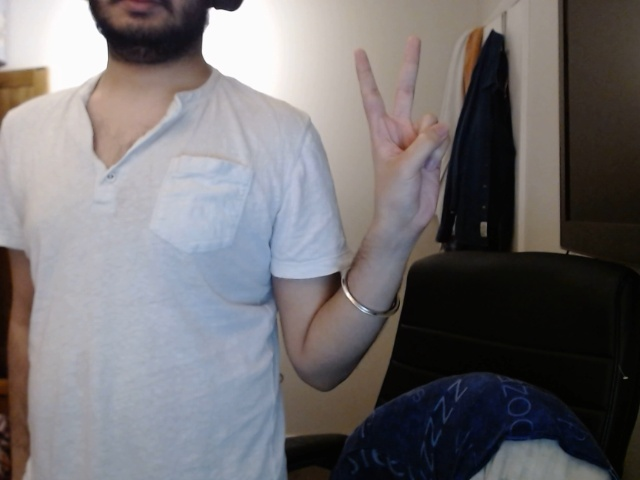Peace: (346, 30, 454, 264)
